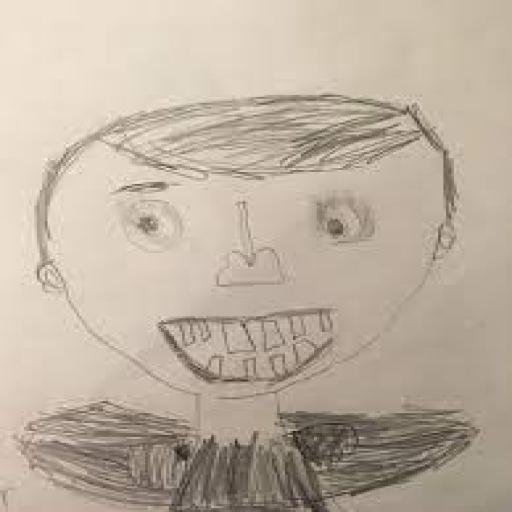person: (18, 87, 487, 509)
